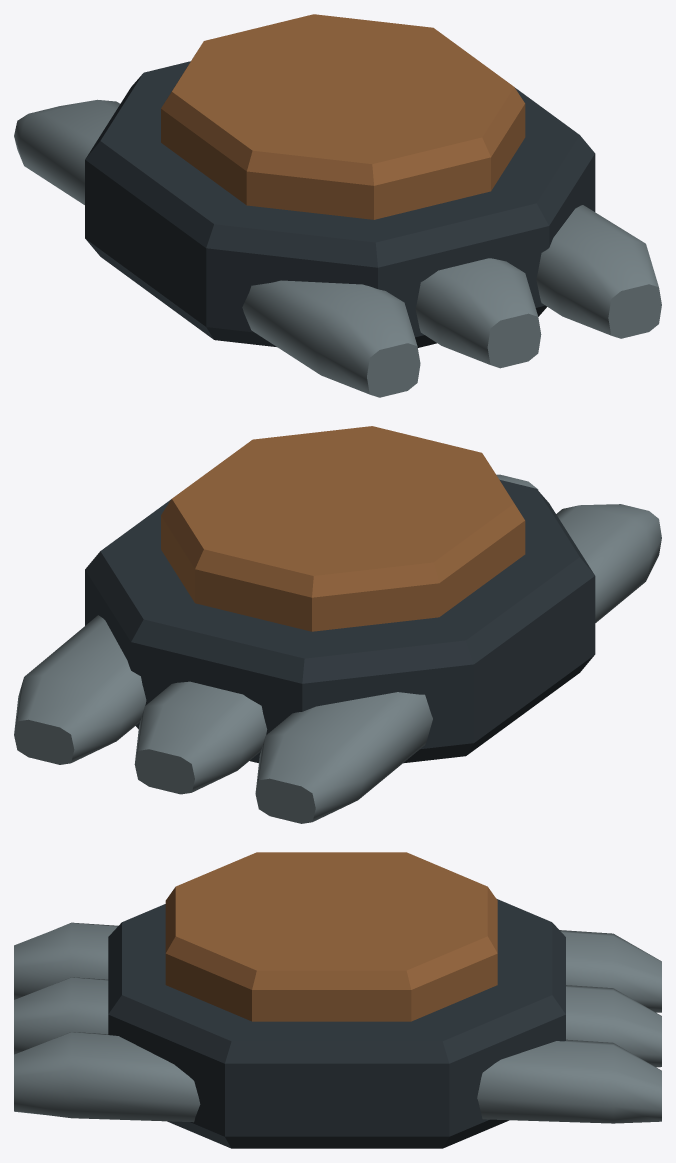
Rendered from kharon_driver_shoe.glb.
3 views of the same model, one above another, from view 1: azimuth 30°, elevation 25°; view 2: azimuth 150°, elevation 25°; view 3: azimuth 270°, elevation 25° (orthographic). The views are drawn at different scales.
Parts seen in each view (by area): view 1: kharon_driver_shoe; view 2: kharon_driver_shoe; view 3: kharon_driver_shoe.
Part boxes in pixels (<box>): kharon_driver_shoe: <box>14,14,661,397</box>; kharon_driver_shoe: <box>14,426,661,823</box>; kharon_driver_shoe: <box>14,852,661,1148</box>.
Bounding box in the file's own units: 2.32 × 0.95 × 3.61.
